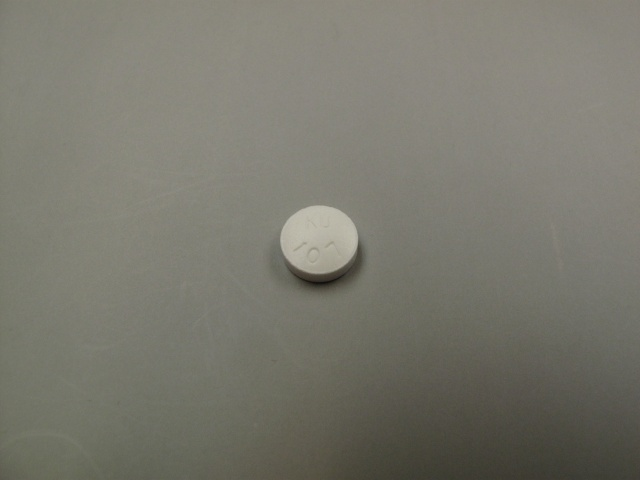0: (304, 245, 322, 265)
1: (291, 240, 309, 254)
7: (322, 240, 343, 261)
K: (304, 211, 317, 232)
U: (318, 212, 331, 232)
